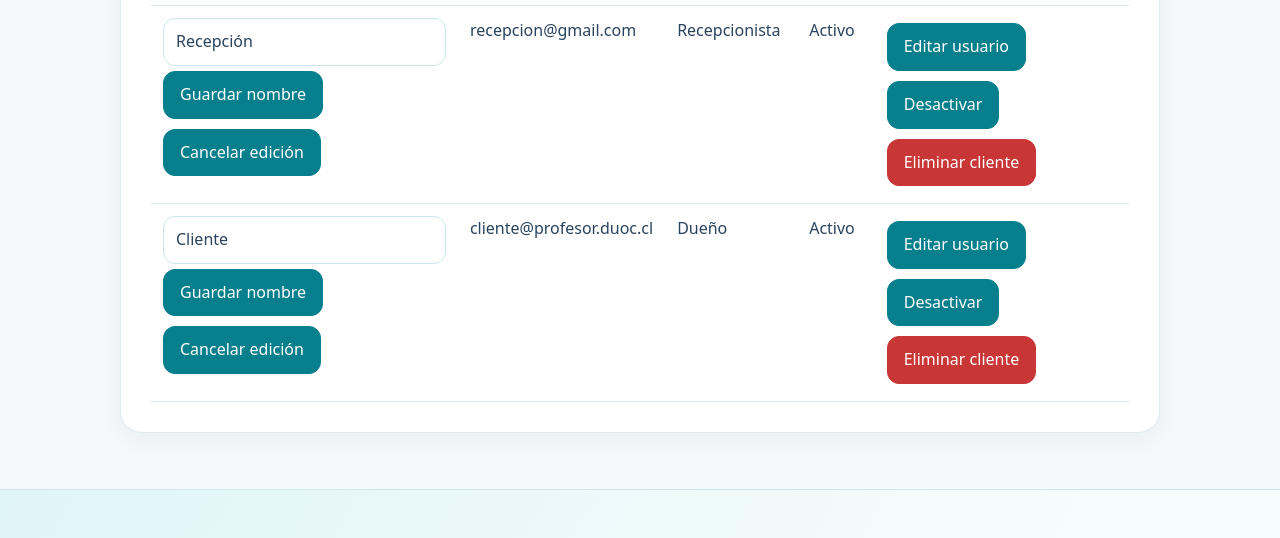
Test: Eliminación de clientes y mascotas › impide eliminar un cliente con mascotas registradas
The width and height of the screenshot is (1280, 538).
(page scrolled)
Click the button "Eliminar cliente" below "cliente@profesor.duoc.cl" at coordinates (961, 360), box [887,336,1036,384]
(page scrolled)
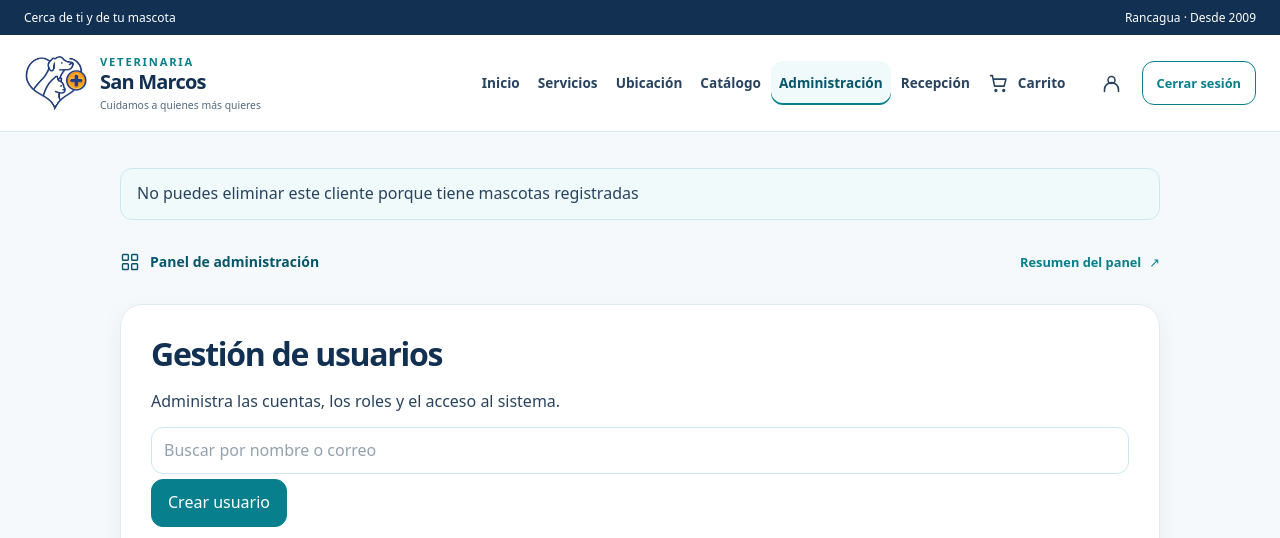
Expected: the message reads "No puedes eliminar este cliente porque tiene mascotas registradas", [137,182,639,204]
